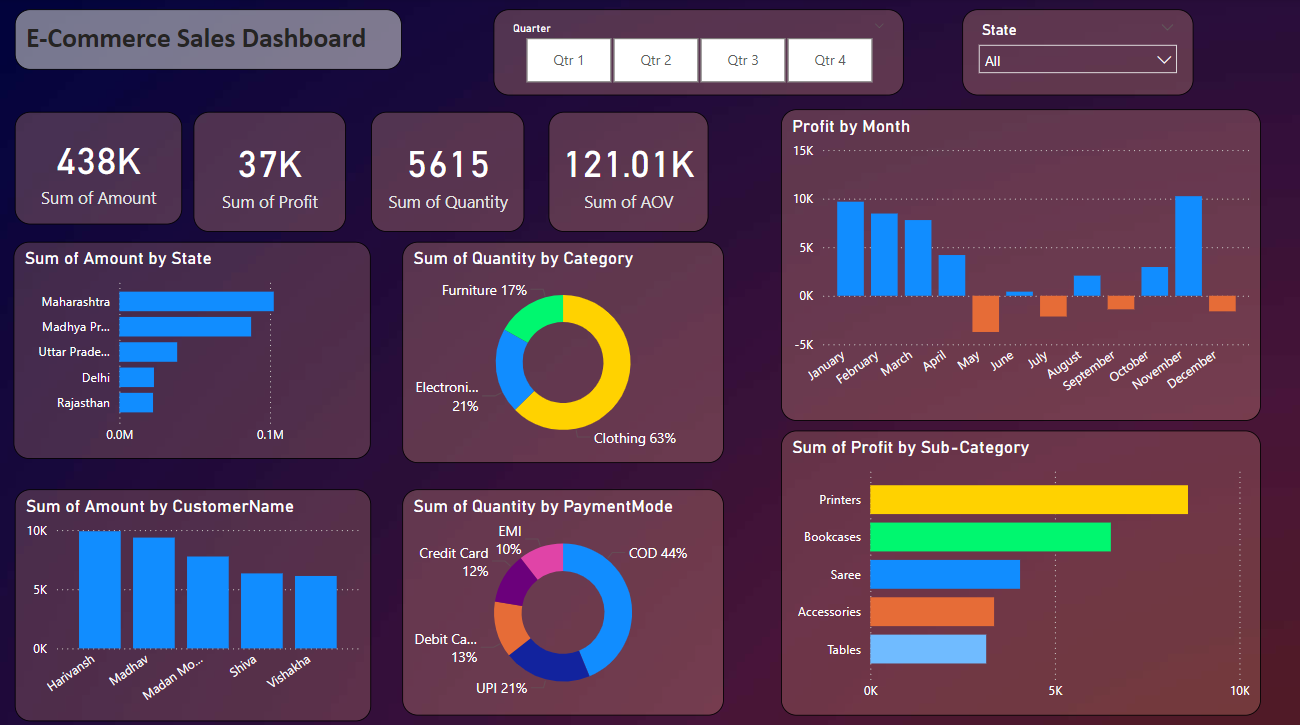

What the dashboard file says about the page in this screenshot:
{"tool":"powerbi","page":{"name":"Page 1","canvas":[1280,720],"ordinal":0},"visuals":[{"type":"columnChart","title":"Profit by Month","fields":{"Category":["Orders.Order Date.Variation.Date Hierarchy.Month"],"Y":["Details.Profit"]},"box":[762.6,107.9,463.1,300.7],"z":0},{"type":"textbox","box":[23,10.9,373.4,58.2],"z":1000},{"type":"barChart","fields":{"Category":["Details.Sub-Category"],"Y":["Details.Profit"]},"box":[762.5,417.4,463.3,275.1],"z":2000},{"type":"donutChart","fields":{"Category":["Details.Category"],"Y":["Details.Quantity"]},"box":[396.9,235.3,310.1,213.5],"z":3000},{"type":"donutChart","fields":{"Y":["Details.Quantity"],"Category":["Details.PaymentMode"]},"box":[396.9,474.1,310.1,218.4],"z":4000},{"type":"card","fields":{"Values":["Details.Amount"]},"box":[22.9,109.8,161.7,108.6],"z":5000},{"type":"card","fields":{"Values":["Details.Profit"]},"box":[195.4,109.8,147.2,115.8],"z":6000},{"type":"card","fields":{"Values":["Details.Quantity"]},"box":[366.8,109.8,148.4,115.8],"z":7000},{"type":"card","fields":{"Values":["Details.AOD"]},"box":[538.1,109.8,154.4,115.8],"z":8000},{"type":"barChart","fields":{"Category":["Orders.State"],"Y":["Details.Amount"]},"box":[21.7,235.3,345,209.9],"z":9000},{"type":"columnChart","fields":{"Y":["Details.Amount"],"Category":["Orders.CustomerName"]},"box":[22.9,474.1,343.8,224.4],"z":10000},{"type":"slicer","fields":{"Values":["Orders.Order Date.Variation.Date Hierarchy.Quarter"]},"box":[485,10.9,395.7,83.2],"z":11000},{"type":"slicer","fields":{"Values":["Orders.State"]},"box":[937.4,10.9,223.2,83.2],"z":12000}]}

Visuals, with their boxes in screenshot pixels (x1, y1, x2, y2), scaled from the page's 1280x720 canvas onto the 1300x725 screenshot:
"Profit by Month" columnChart: (775, 109, 1245, 411)
textbox: (23, 11, 403, 70)
barChart - Details.Sub-Category x Details.Profit: (774, 420, 1245, 697)
donutChart - Details.Category x Details.Quantity: (403, 237, 718, 452)
donutChart - Details.Quantity x Details.PaymentMode: (403, 477, 718, 697)
card - Details.Amount: (23, 111, 187, 220)
card - Details.Profit: (198, 111, 348, 227)
card - Details.Quantity: (373, 111, 523, 227)
card - Details.AOD: (547, 111, 703, 227)
barChart - Orders.State x Details.Amount: (22, 237, 372, 448)
columnChart - Details.Amount x Orders.CustomerName: (23, 477, 372, 703)
slicer - Orders.Order Date.Variation.Date Hierarchy.Quarter: (493, 11, 894, 95)
slicer - Orders.State: (952, 11, 1179, 95)
